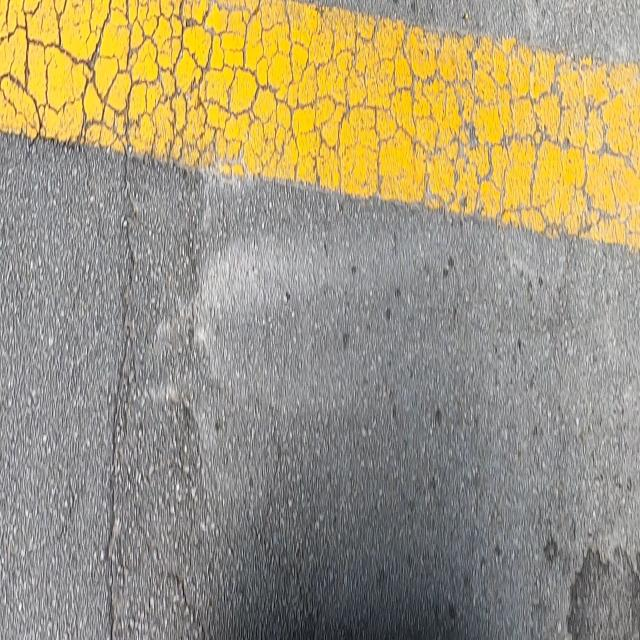Retak-Buaya: (0, 0, 636, 252)
Retak-Memanjang: (101, 160, 138, 637)
